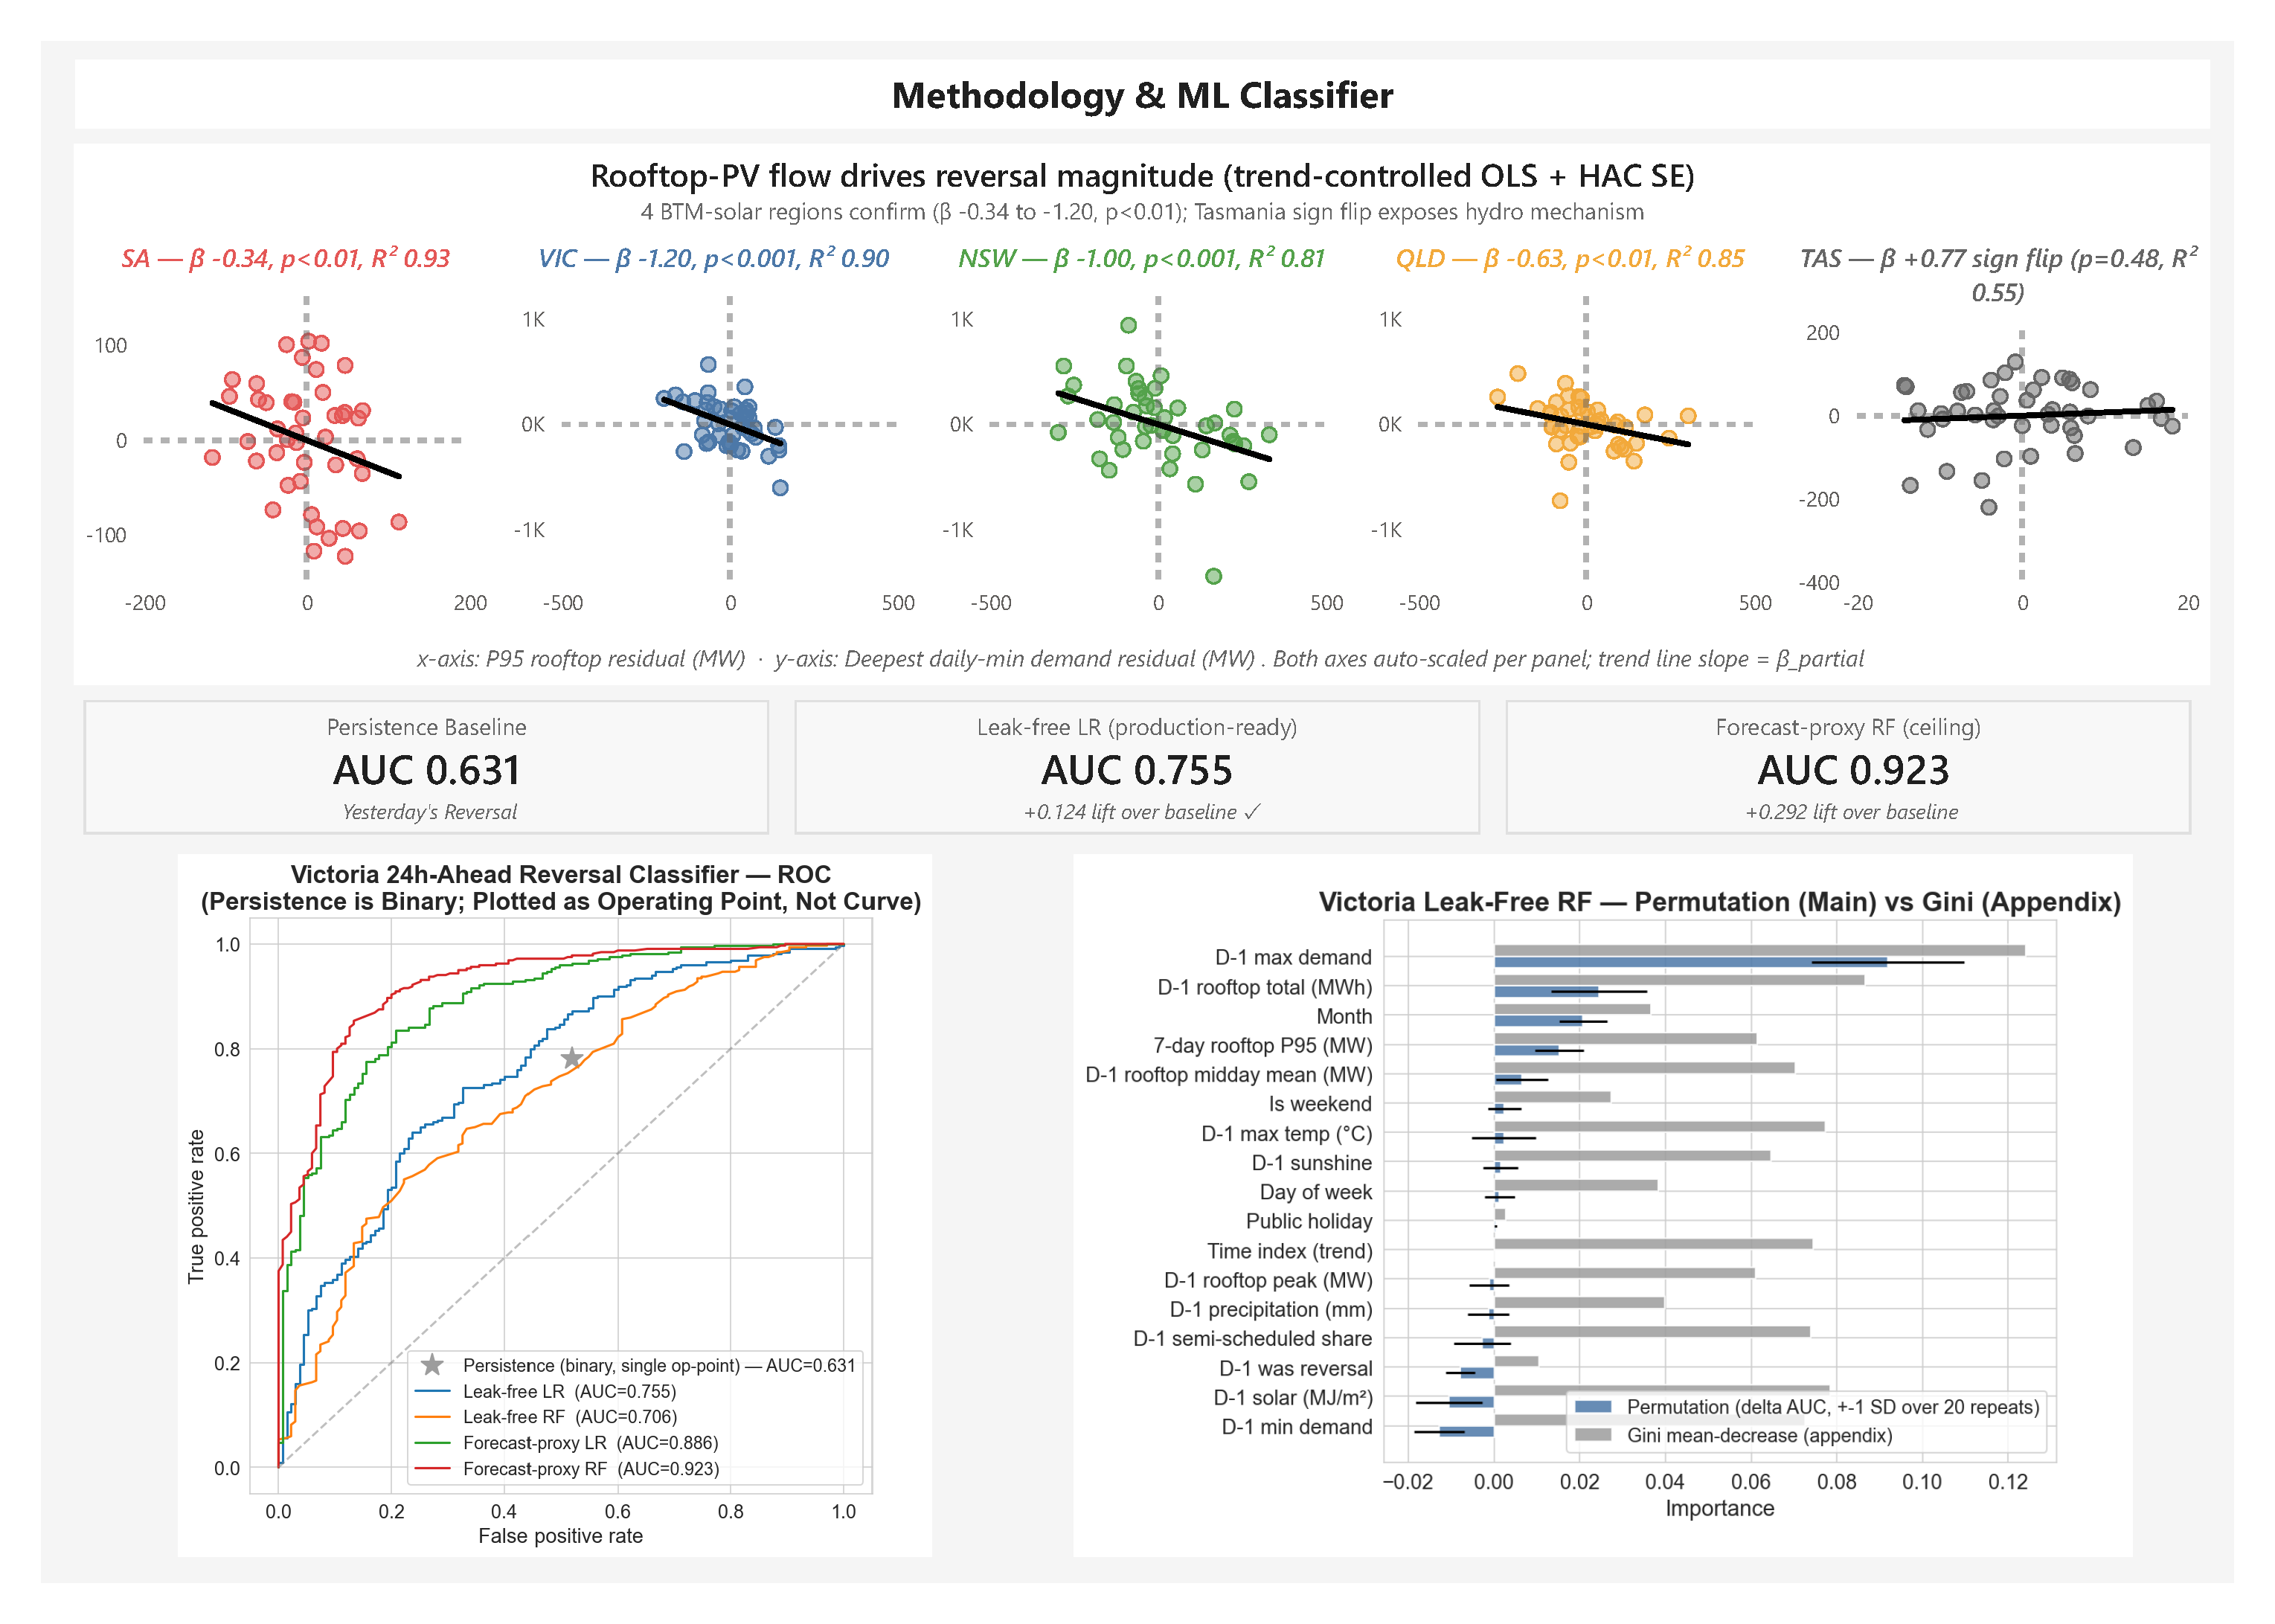

Layout of this report page (visuals, bound fields, positions):
{"tool":"powerbi","page":{"name":"Methodology + ML","canvas":[1280,900],"ordinal":1},"visuals":[{"type":"scatterChart","title":"SA — β -0.34, p<0.01, R² 0.93","fields":{"X":["Sum(h2_partial_resid.x_residual)"],"Y":["Sum(h2_partial_resid.y_residual)"],"Category":["h2_partial_resid.month"]},"box":[20,115.6,245,230],"z":0,"group":"g1"},{"type":"textbox","box":[25,385,400,78],"z":0},{"type":"scatterChart","title":"VIC — β -1.20, p<0.001, R² 0.90 ","fields":{"X":["Sum(h2_partial_resid.x_residual)"],"Y":["Sum(h2_partial_resid.y_residual)"],"Category":["h2_partial_resid.month"]},"box":[270,115.6,245,230],"z":1000,"group":"g1"},{"type":"textbox","box":[440,385,400,78],"z":1000},{"type":"scatterChart","title":"NSW — β -1.00, p<0.001, R² 0.81","fields":{"X":["Sum(h2_partial_resid.x_residual)"],"Y":["Sum(h2_partial_resid.y_residual)"],"Category":["h2_partial_resid.month"]},"box":[520,115.6,245,230],"z":2000,"group":"g1"},{"type":"textbox","box":[855,385,400,78],"z":2000},{"type":"textbox","box":[20,11.1,1245.6,40],"z":3000},{"type":"scatterChart","title":"QLD — β -0.63, p<0.01, R² 0.85","fields":{"X":["Sum(h2_partial_resid.x_residual)"],"Y":["Sum(h2_partial_resid.y_residual)"],"Category":["h2_partial_resid.month"]},"box":[770,115.6,245,230],"z":3000,"group":"g1"},{"type":"group","id":"g1","title":"Group 1","box":[18.9,60,1246.7,315.6],"z":4000},{"type":"scatterChart","title":"TAS — β +0.77 sign flip (p=0.48, R² 0.55)","fields":{"X":["Sum(h2_partial_resid.x_residual)"],"Y":["Sum(h2_partial_resid.y_residual)"],"Category":["h2_partial_resid.month"]},"box":[1020,115.6,245,230],"z":4000,"group":"g1"},{"type":"image","box":[602.5,475,618.8,410],"z":4001},{"type":"image","box":[80,475,440,410],"z":4002},{"type":"textbox","box":[20,60,1245.6,55],"z":5000,"group":"g1"},{"type":"textbox","box":[18.9,345.6,1245.6,30],"z":6000,"group":"g1"}]}

Visuals, with their boxes in screenshot pixels (x1, y1, x2, y2), scaled from the page's 1280x900 canvas onto the 2275x1624 screenshot:
"SA — β -0.34, p<0.01, R² 0.93" scatterChart: x1=36 y1=208 x2=471 y2=623
textbox: x1=45 y1=695 x2=755 y2=835
"VIC — β -1.20, p<0.001, R² 0.90 " scatterChart: x1=480 y1=208 x2=915 y2=623
textbox: x1=782 y1=695 x2=1493 y2=835
"NSW — β -1.00, p<0.001, R² 0.81" scatterChart: x1=924 y1=208 x2=1360 y2=623
textbox: x1=1520 y1=695 x2=2230 y2=835
textbox: x1=36 y1=20 x2=2250 y2=92
"QLD — β -0.63, p<0.01, R² 0.85" scatterChart: x1=1369 y1=208 x2=1804 y2=623
"Group 1" group: x1=33 y1=109 x2=2250 y2=678
"TAS — β +0.77 sign flip (p=0.48, R² 0.55)" scatterChart: x1=1813 y1=208 x2=2248 y2=623
image: x1=1071 y1=857 x2=2171 y2=1597
image: x1=142 y1=857 x2=924 y2=1597
textbox: x1=36 y1=109 x2=2250 y2=208
textbox: x1=33 y1=623 x2=2247 y2=678
